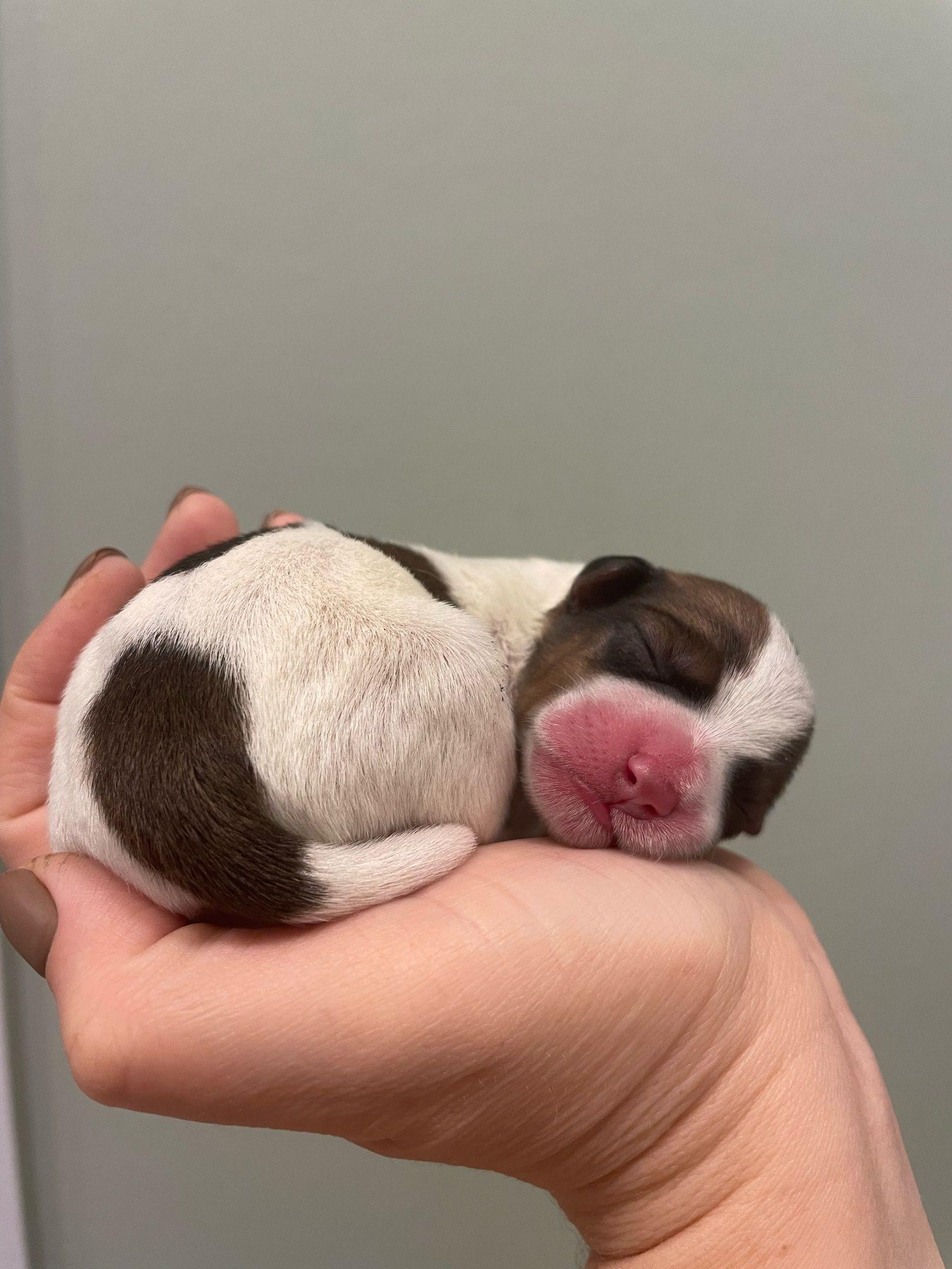puppy-dog: (44, 519, 819, 930)
